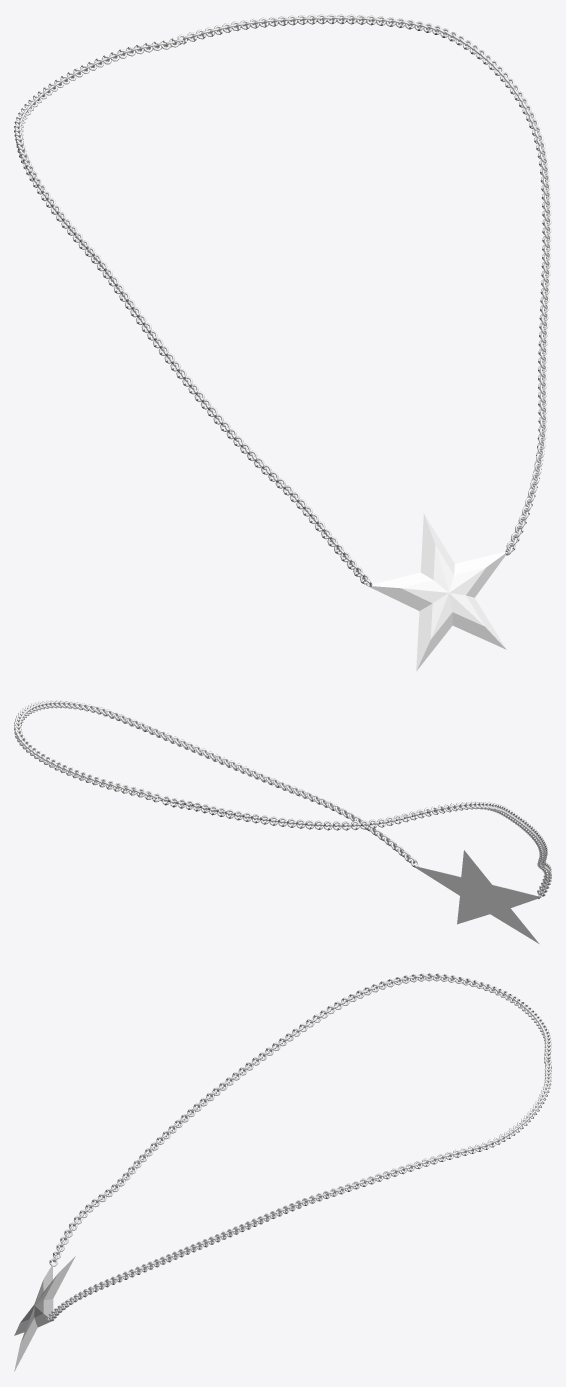
File: star.glb
The picture shows the model from 3 angles, top to bottom: view 1: azimuth 30°, elevation 25°; view 2: azimuth 150°, elevation 25°; view 3: azimuth 270°, elevation 25°; orthographic projection. The views are drawn at different scales.
Visible parts, largest first — view 1: Star; view 2: Star; view 3: Star.
Part boxes in pixels (x1,y1,x2,y2): Star: (14,14,551,670); Star: (14,700,551,943); Star: (14,973,551,1371).
Size of the model in its own units: 0.1028 by 0.0785 by 0.1224.
Materials: 2 (1 with a texture image).
